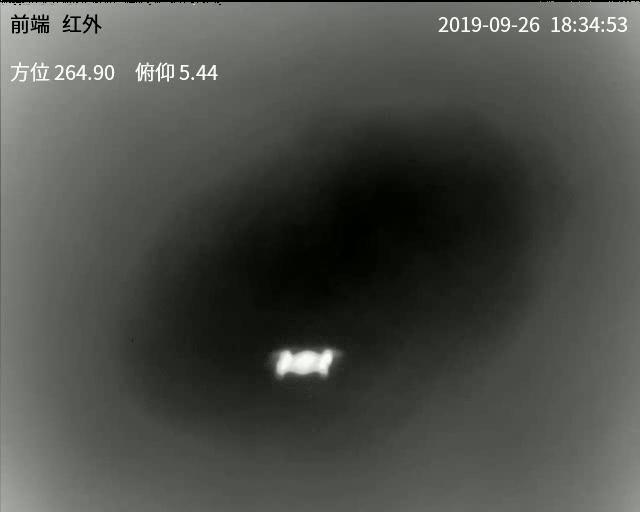DRONE: (273, 349, 335, 378)
